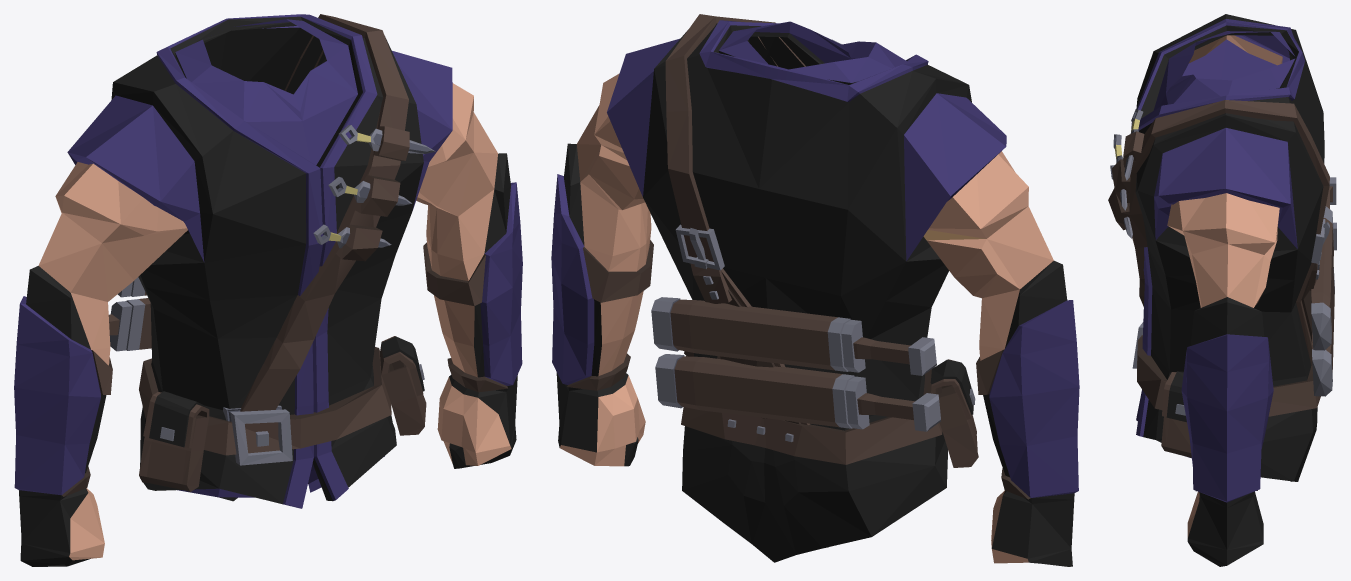
The model's file is RogueChest.dae.
The picture shows the model from 3 angles, left to right: view 1: azimuth 30°, elevation 25°; view 2: azimuth 150°, elevation 25°; view 3: azimuth 270°, elevation 25°; orthographic projection. The views are drawn at different scales.
Parts seen in each view (by area): view 1: Chest; view 2: Chest; view 3: Chest.
Boxes of the visible parts, box(x1,y1,x2,y2) form: Chest: box(14, 14, 522, 566); Chest: box(551, 14, 1079, 566); Chest: box(1108, 14, 1336, 566).
Bounding box in the file's own units: 4.95 × 2.15 × 4.47.
